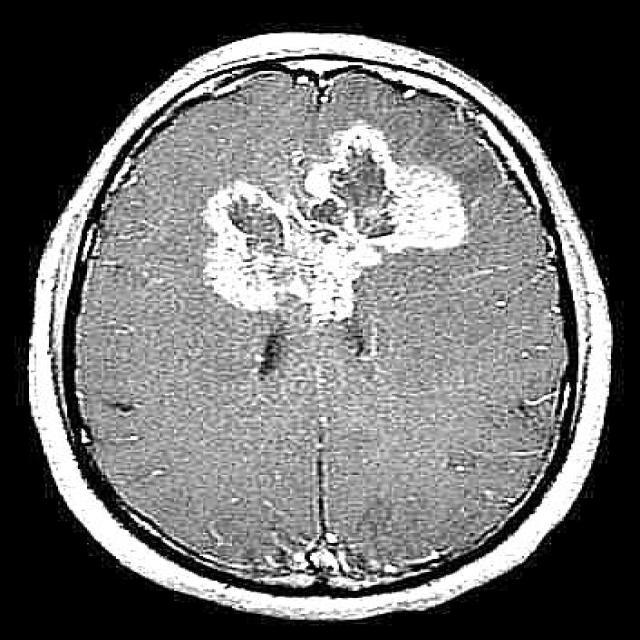brain tumor: (196, 125, 466, 326)
